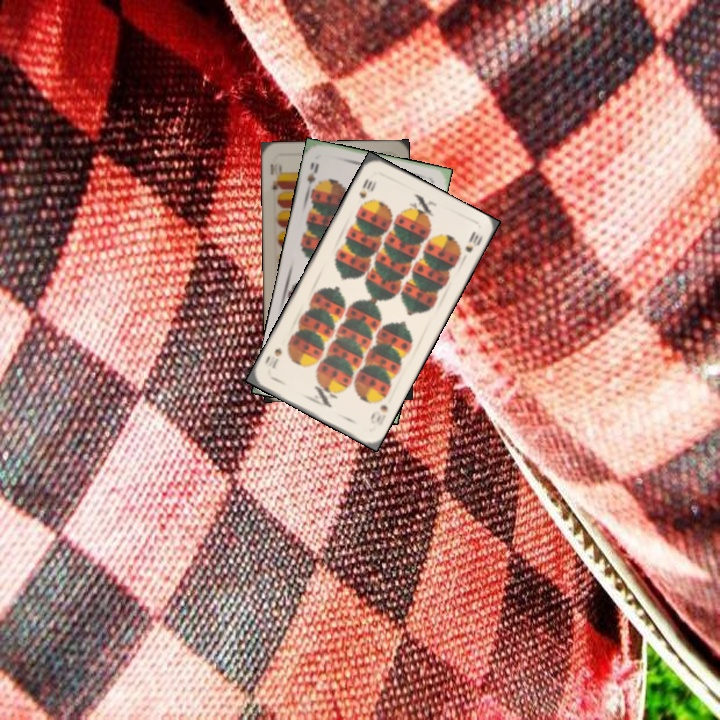E10: (266, 160, 284, 192)
S10: (366, 401, 391, 428), (355, 175, 379, 201)
S9: (302, 158, 321, 196)
